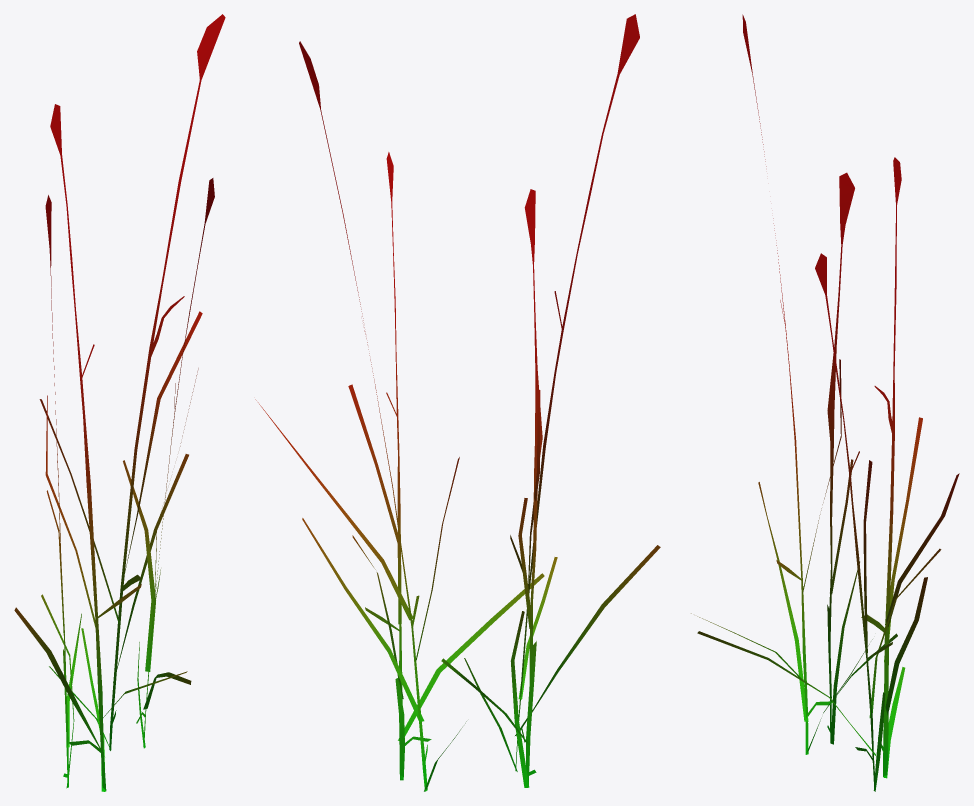
File: Tundra Grass_LOD4_Var34_wk2oaeyqx.fbx
3 views of the same model, side by side, from view 1: azimuth 30°, elevation 25°; view 2: azimuth 150°, elevation 25°; view 3: azimuth 270°, elevation 25° (orthographic). The views are drawn at different scales.
Visible parts, largest first — view 1: _9wnb_Var34_LOD4; view 2: _9wnb_Var34_LOD4; view 3: _9wnb_Var34_LOD4.
Boxes of the visible parts, x1=… form: _9wnb_Var34_LOD4: x1=14, y1=14, x2=225, y2=791; _9wnb_Var34_LOD4: x1=255, y1=14, x2=660, y2=791; _9wnb_Var34_LOD4: x1=691, y1=14, x2=959, y2=791.
Bounding box in the file's own units: 19.93 × 47.86 × 16.67.
